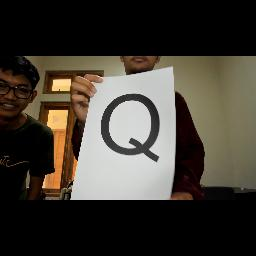q: (94, 90, 166, 164)
